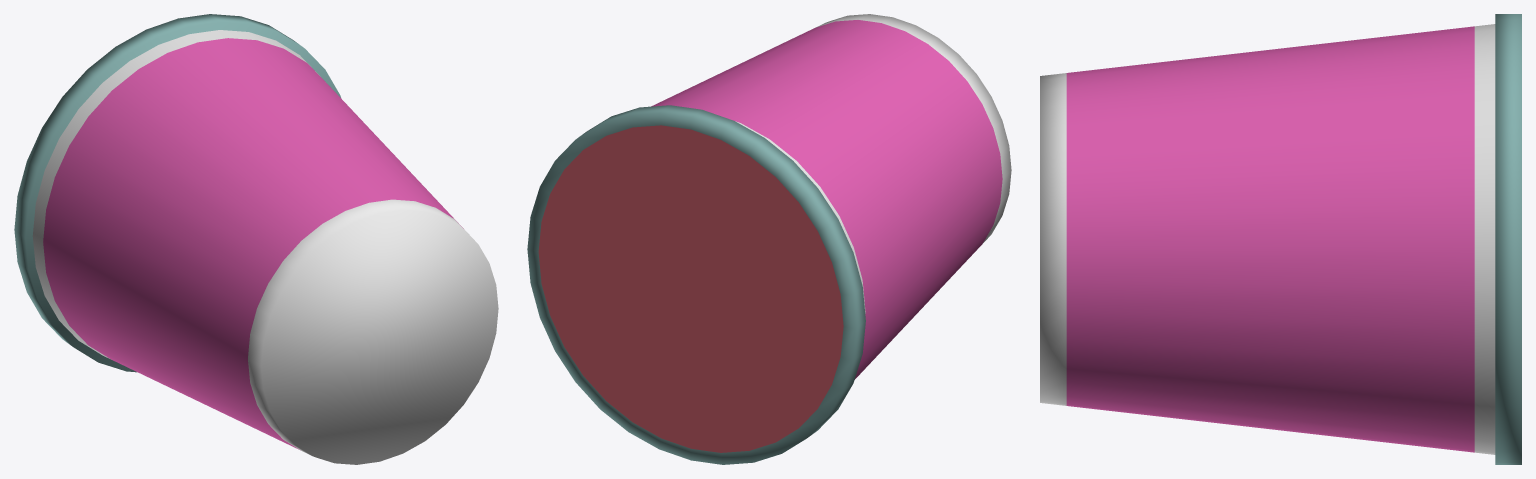
Rendered from fruityogurt.fbx.
3 renders of one model, left to right at view 1: azimuth 30°, elevation 25°; view 2: azimuth 150°, elevation 25°; view 3: azimuth 270°, elevation 25°, orthographic. The views are drawn at different scales.
Parts seen in each view (by area): view 1: fruityogurt; view 2: fruityogurt; view 3: fruityogurt.
Part boxes in pixels (bbox=[...]): fruityogurt: bbox=[14, 14, 498, 464]; fruityogurt: bbox=[527, 14, 1011, 464]; fruityogurt: bbox=[1040, 14, 1521, 464].
Size of the model in its own units: 635 by 635 by 678.
